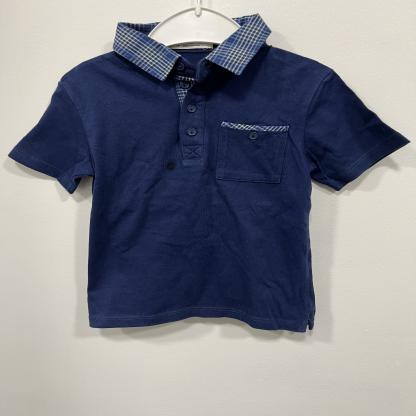stain: (164, 160, 178, 172), (160, 165, 164, 168)
